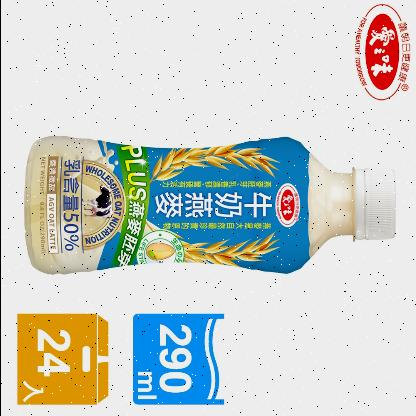Plastic Bottle: (24, 136, 394, 274)
